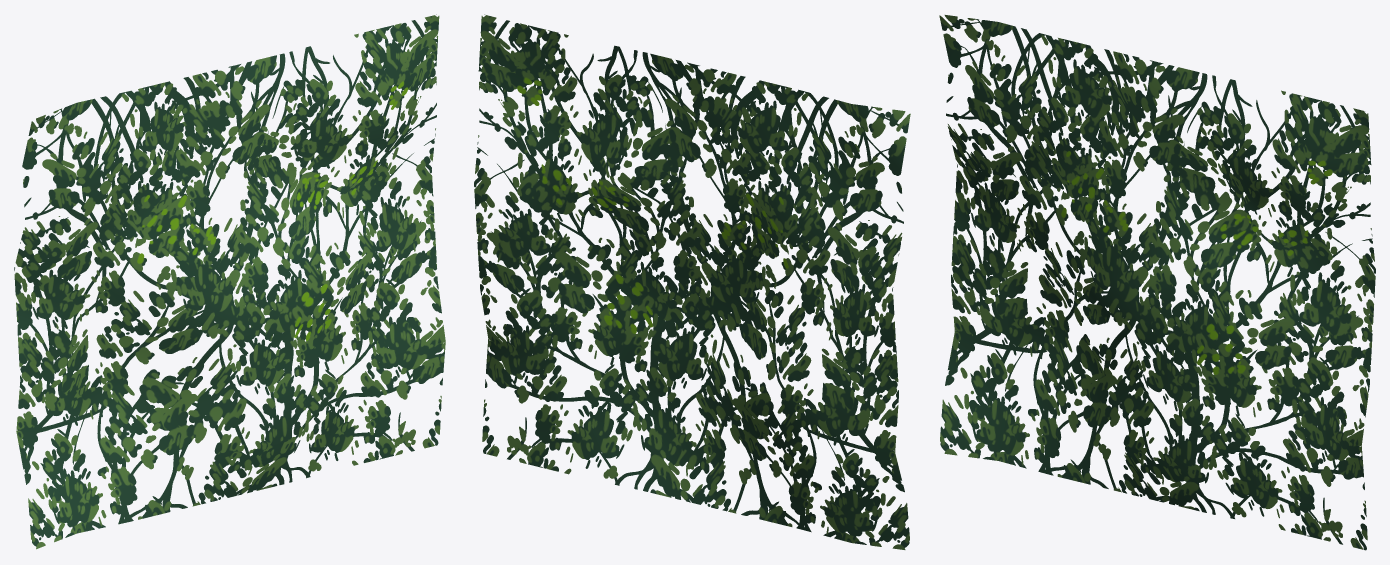
The model's file is Ivy_1.fbx.
3 views of the same model, side by side, from view 1: azimuth 30°, elevation 25°; view 2: azimuth 150°, elevation 25°; view 3: azimuth 330°, elevation 25° (orthographic).
Parts seen in each view (by area): view 1: Ivy_1; view 2: Ivy_1; view 3: Ivy_1.
Part boxes in pixels (bbox=[...]): Ivy_1: bbox=[14, 14, 445, 549]; Ivy_1: bbox=[474, 14, 910, 549]; Ivy_1: bbox=[939, 15, 1375, 550].
Bounding box in the file's own units: 2 × 1.99 × 0.1979.
